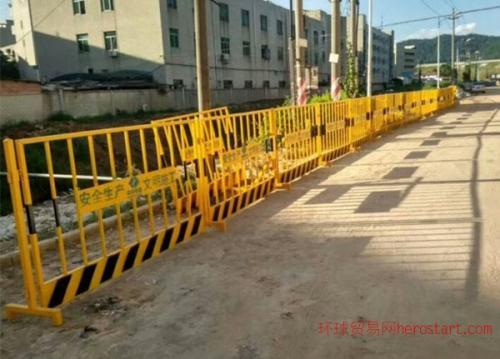sign: (10, 125, 228, 299), (232, 97, 347, 195)
